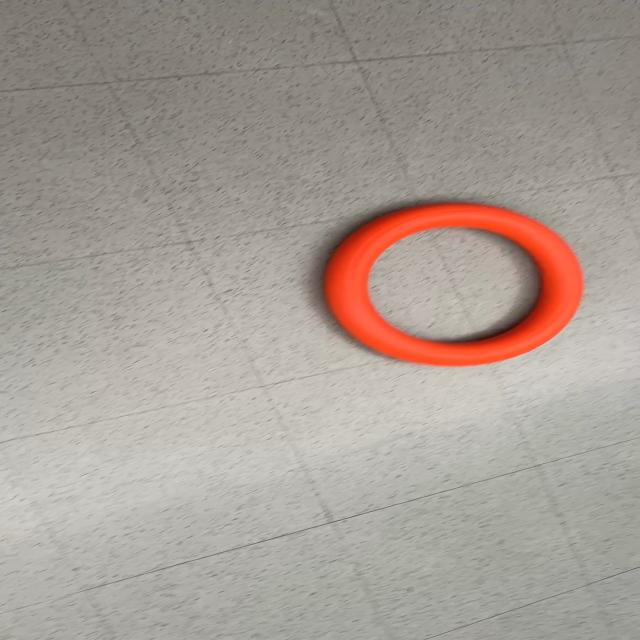note: (320, 201, 586, 367)
